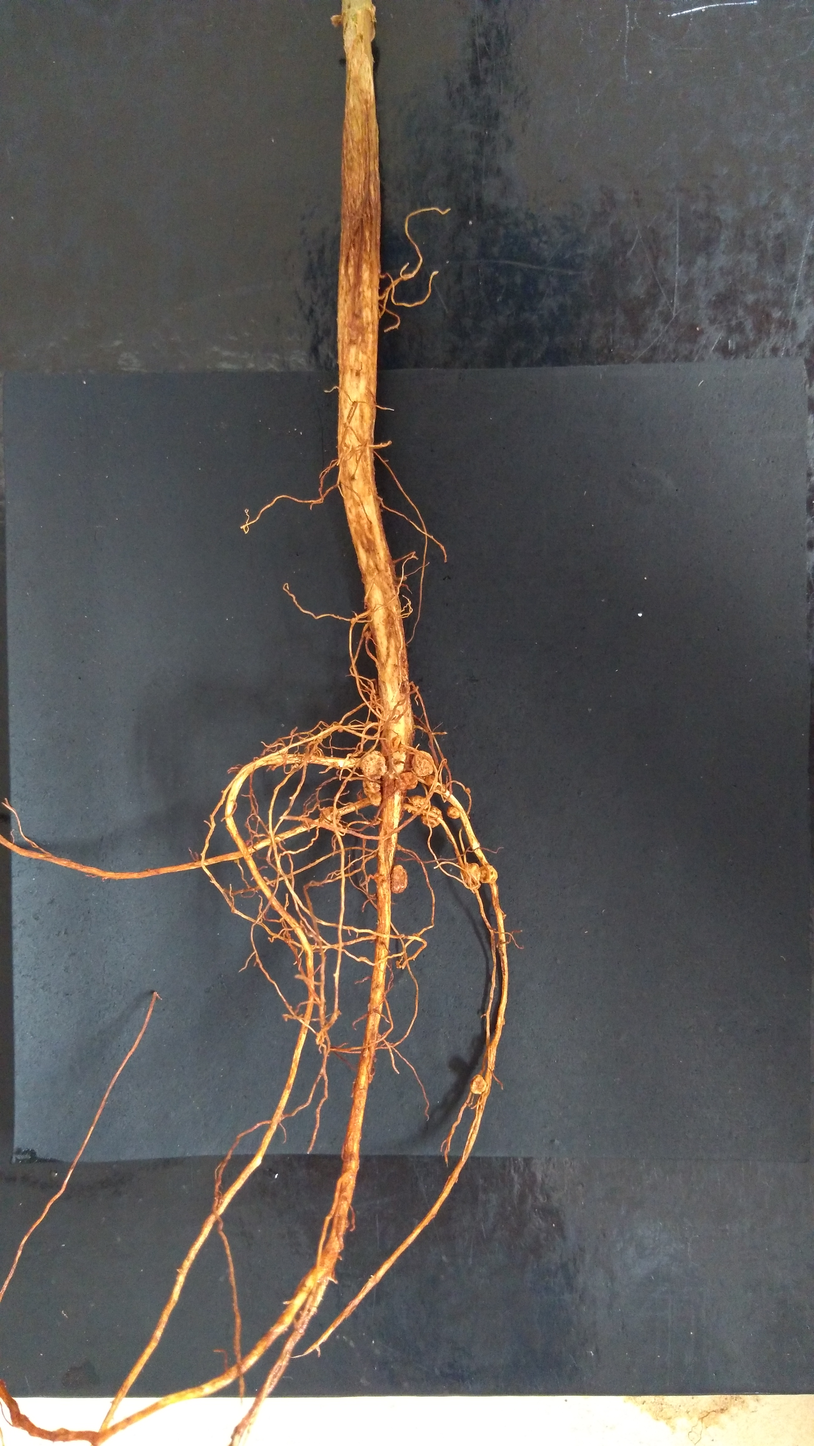nodule: (360, 750, 387, 782), (361, 776, 383, 806), (411, 750, 435, 776), (406, 794, 430, 817), (460, 862, 481, 888), (390, 864, 408, 894), (319, 806, 341, 829), (421, 805, 442, 829), (394, 772, 418, 790), (479, 864, 498, 884), (469, 1074, 487, 1095), (446, 804, 460, 819), (367, 678, 379, 693), (424, 774, 435, 786), (373, 873, 382, 885), (395, 960, 403, 969), (365, 721, 372, 728), (464, 787, 471, 794), (350, 617, 356, 624), (364, 630, 369, 638), (337, 728, 344, 733), (293, 763, 298, 769)
